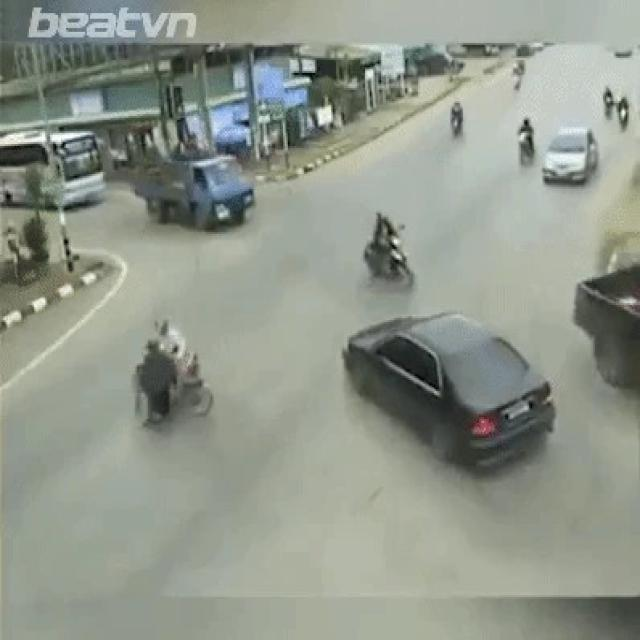multiple_accident: (117, 308, 223, 441)
normal: (314, 284, 576, 509), (441, 90, 609, 220), (130, 124, 263, 256), (0, 100, 117, 233), (339, 179, 429, 301)
